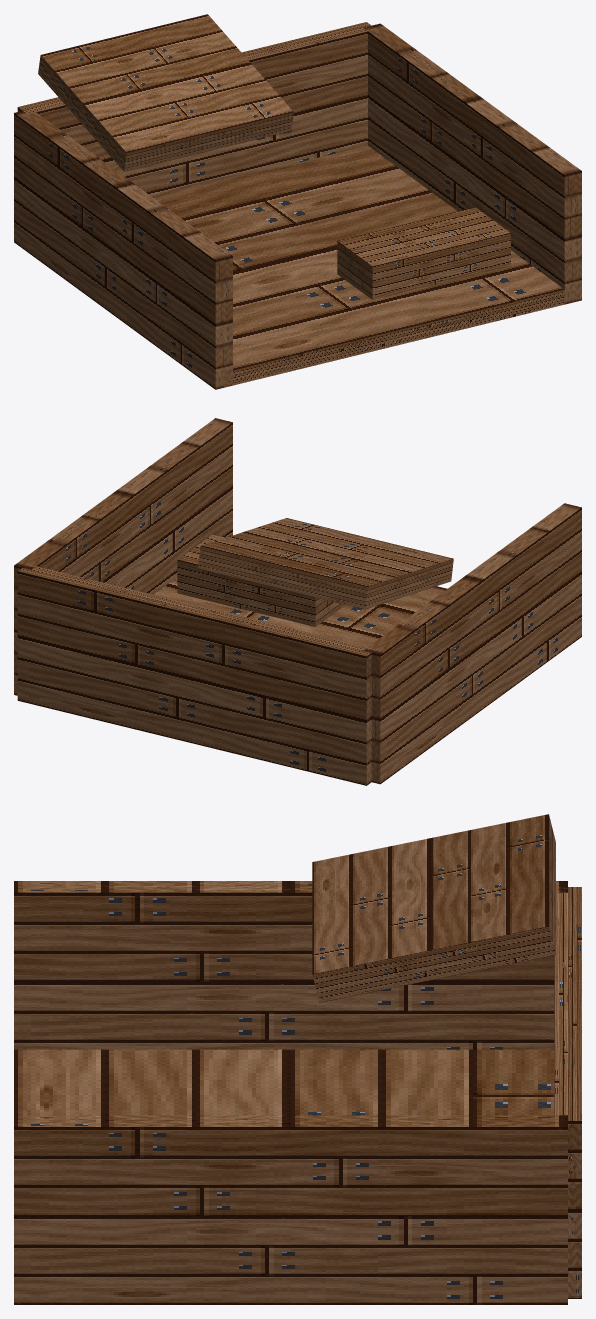
The model's file is chiqueiro.glb.
3 views of the same model, one above another, from view 1: azimuth 30°, elevation 25°; view 2: azimuth 150°, elevation 25°; view 3: azimuth 270°, elevation 25° (orthographic). The views are drawn at different scales.
Visible parts, largest first — view 1: chiqueiro; view 2: chiqueiro; view 3: chiqueiro.
Boxes of the visible parts, <box> form: chiqueiro: <box>14,14,581,389</box>; chiqueiro: <box>14,418,581,785</box>; chiqueiro: <box>14,814,581,1304</box>.
Bounding box in the file's own units: 2.52 × 1.23 × 2.46.
Materials: 1 (1 with a texture image).
